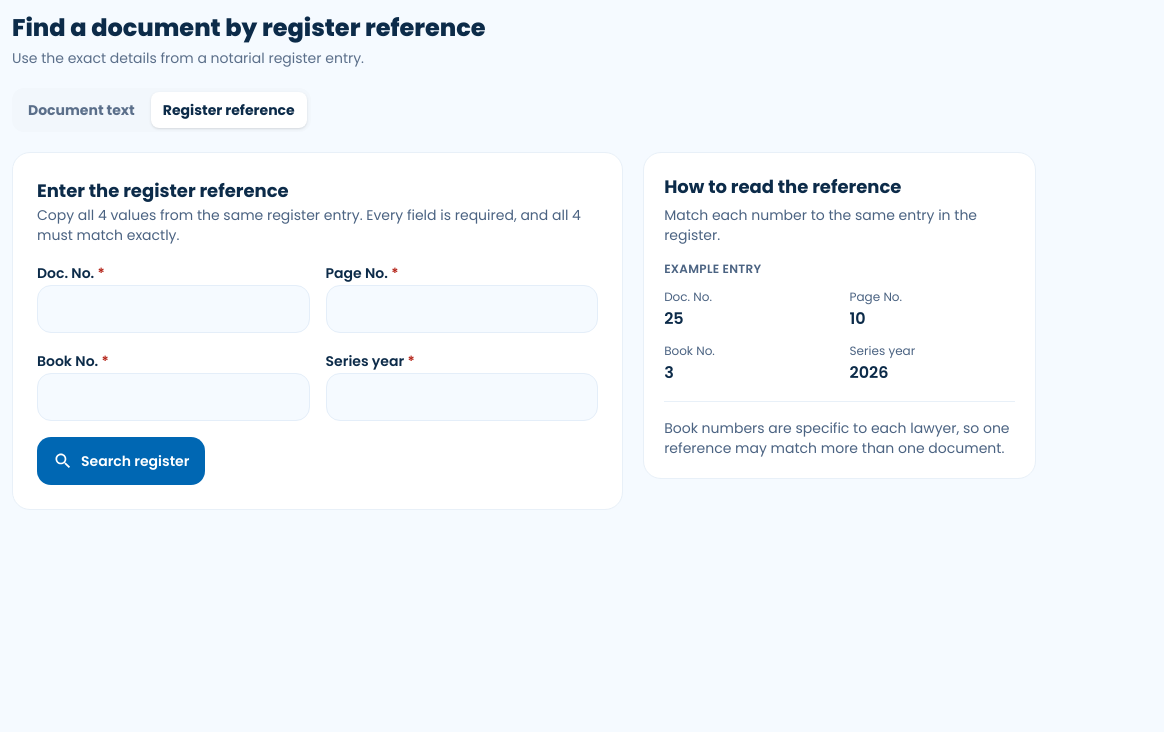
Test: SearchPage › requires a complete register reference and shows the matching record details
The image size is (1164, 732).
Type "25" into the number field labelled "Doc. No." at [173, 309], box [37,285,310,333]
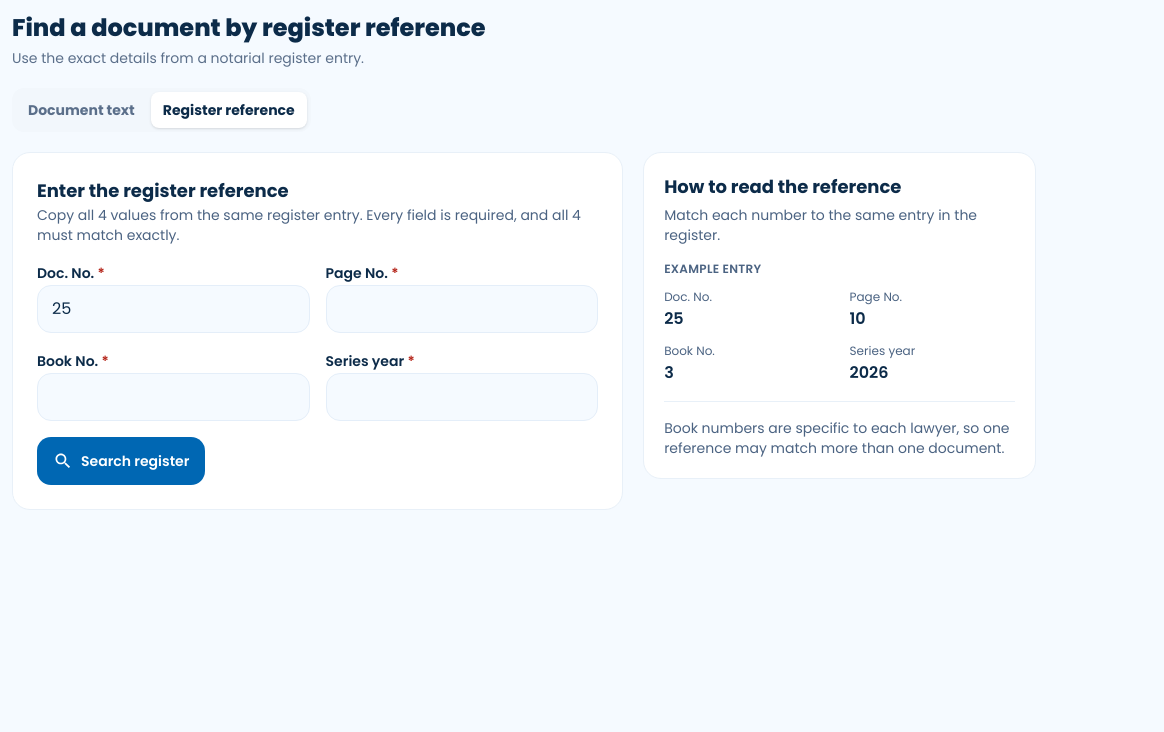
Type "10" into the number field labelled "Page No." at [462, 309], box [326,285,598,333]
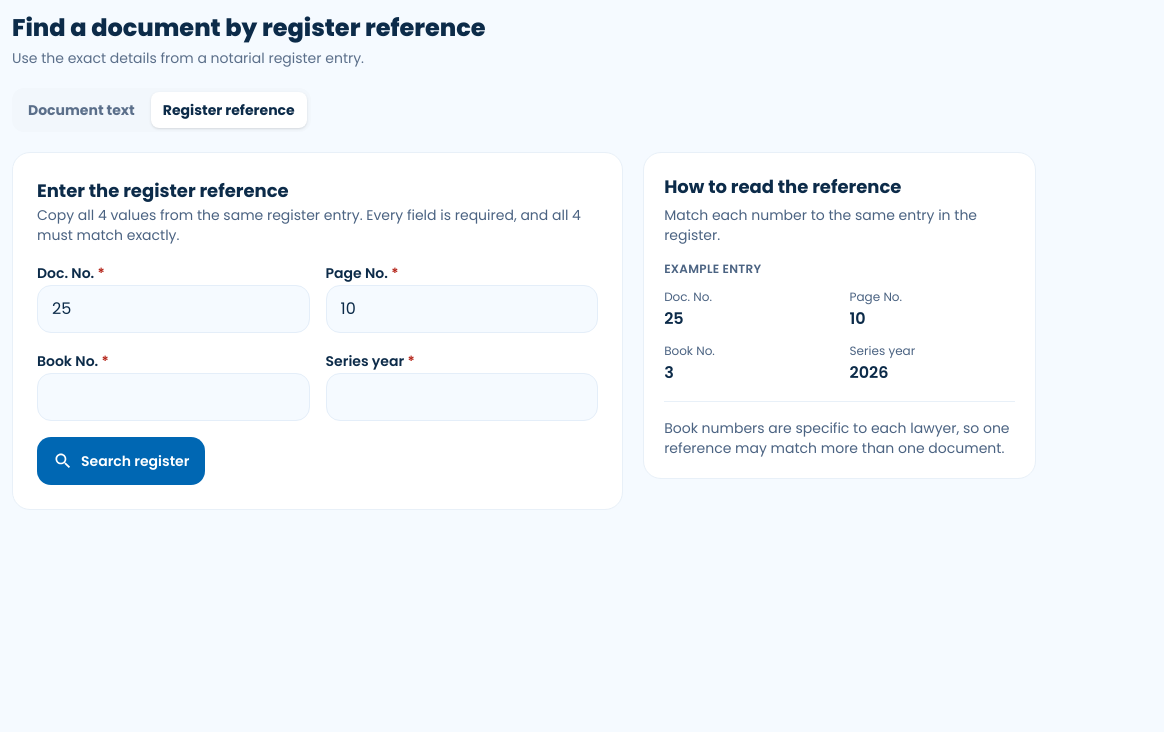
Type "3" into the number field labelled "Book No." at [173, 397], box [37,373,310,421]
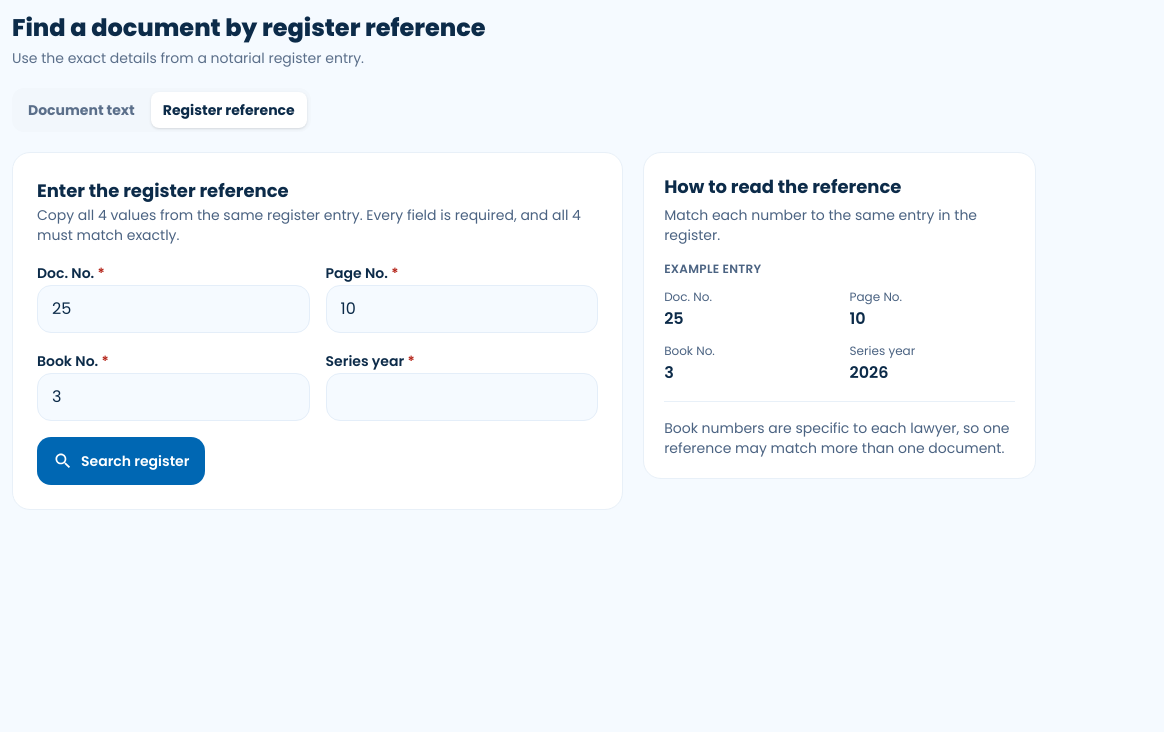
Type "2026" into the number field labelled "Series year" at [462, 397], box [326,373,598,421]
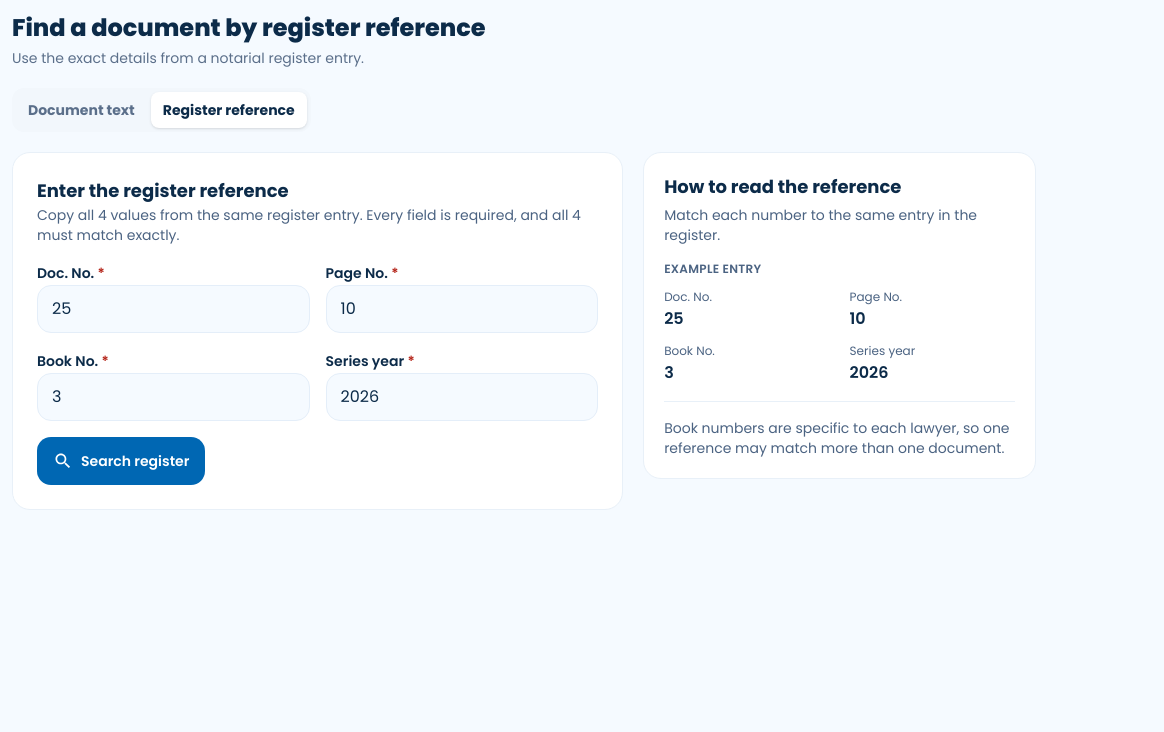
Click the button "Search register" at [121, 461], box [37,437,205,485]
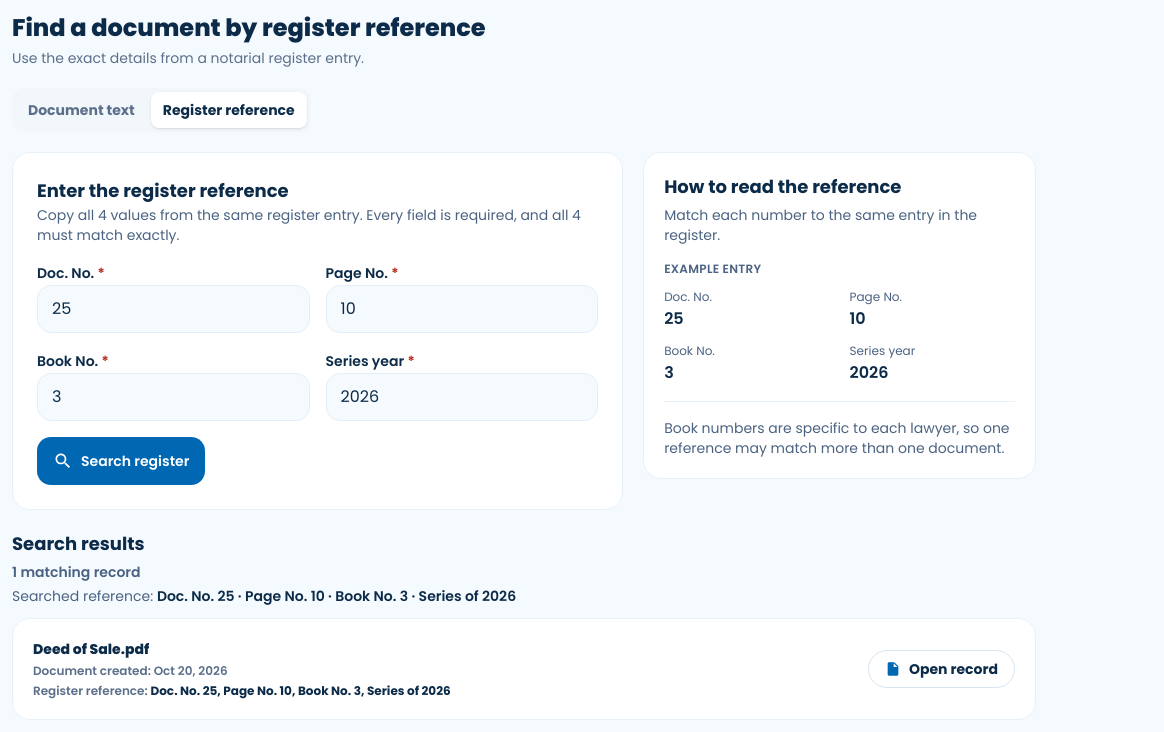
expect the heading "Deed of Sale.pdf" is shown: met, box [33,639,149,659]
expect the text "Oct 20, 2026" is shown: met, box [154,662,228,679]
expect the text "Doc. No. 25, Page No. 10, Book No. 3, Series of 2026" is shown: met, box [150,682,451,699]
